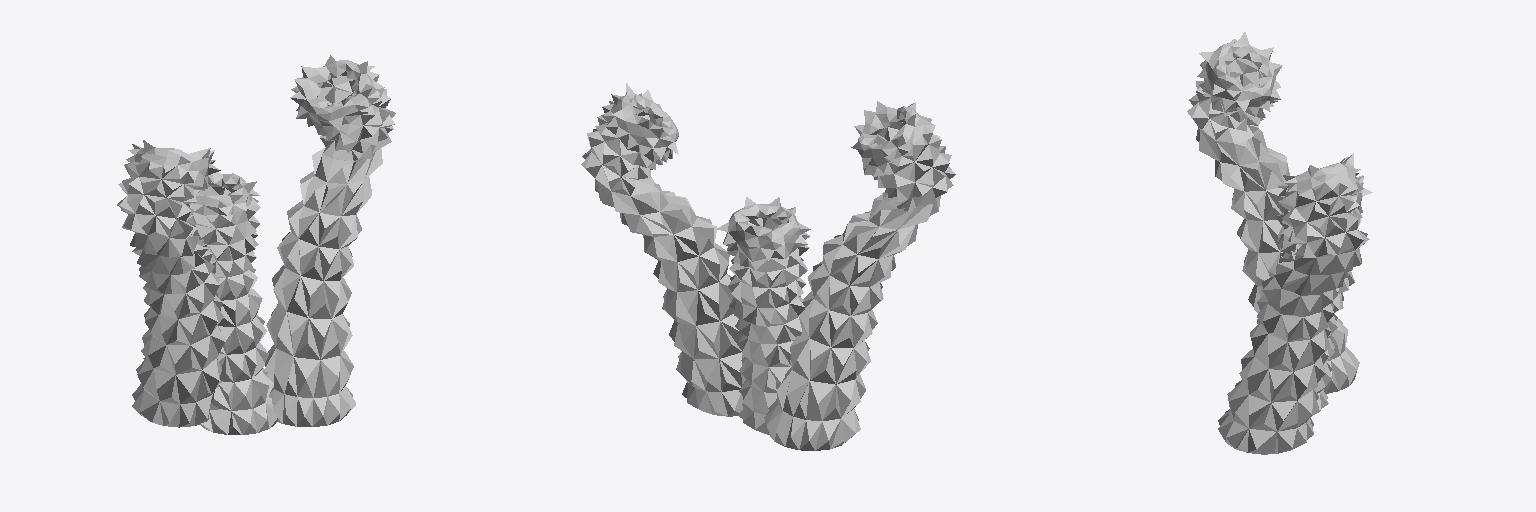
File: coral.obj
The picture shows the model from 3 angles: view 1: azimuth 30°, elevation 25°; view 2: azimuth 150°, elevation 25°; view 3: azimuth 270°, elevation 25°; orthographic projection.
Parts seen in each view (by area): view 1: Circle.001_Circle.002; view 2: Circle.001_Circle.002; view 3: Circle.001_Circle.002.
Boxes of the visible parts, x1=… form: Circle.001_Circle.002: x1=117, y1=55, x2=395, y2=434; Circle.001_Circle.002: x1=581, y1=83, x2=955, y2=450; Circle.001_Circle.002: x1=1187, y1=32, x2=1372, y2=454.
Size of the model in its own units: 5.04 by 4.94 by 2.59.